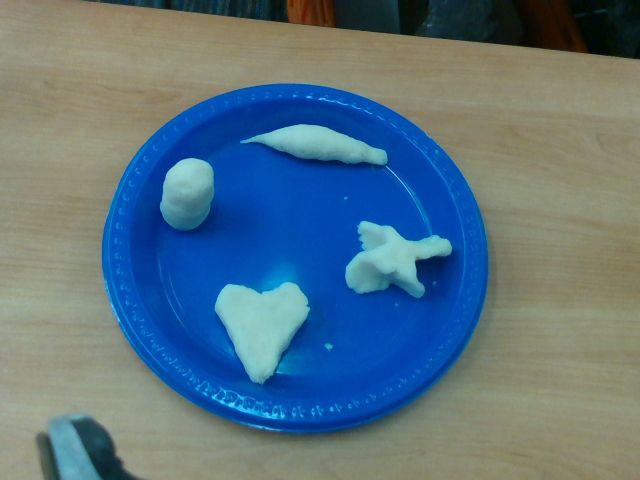mashed_potato: (214, 284, 309, 384), (346, 220, 451, 297), (241, 124, 388, 167), (160, 158, 214, 230)
